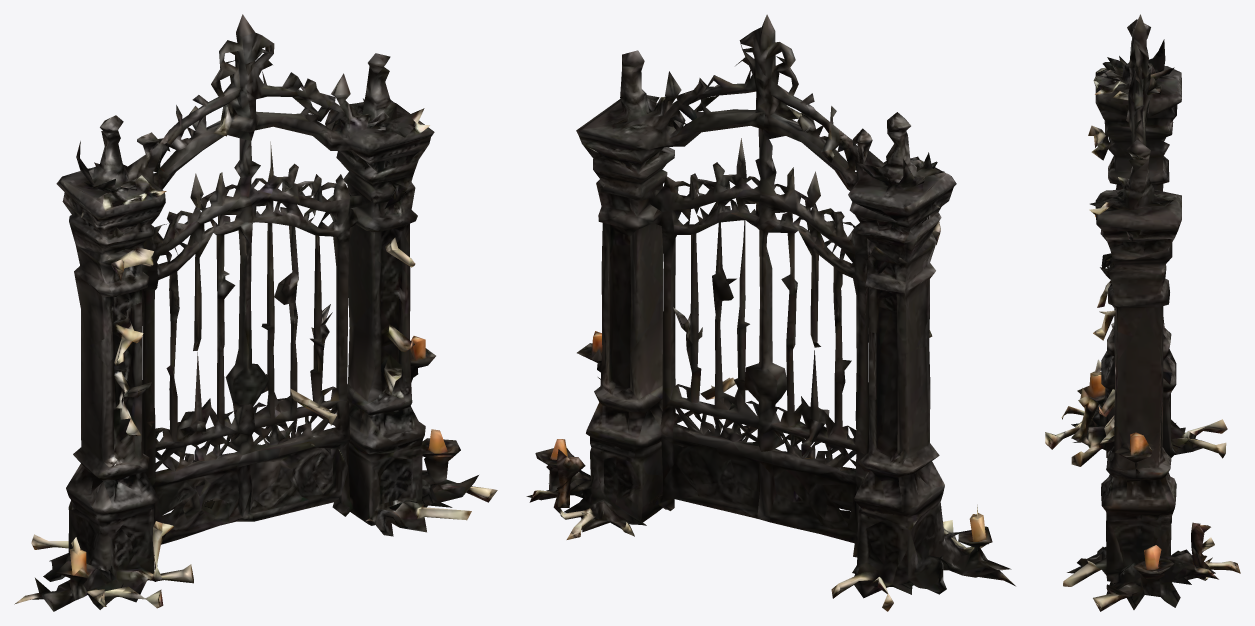
Rendered from iron_gate.glb.
3 views of the same model, side by side, from view 1: azimuth 30°, elevation 25°; view 2: azimuth 150°, elevation 25°; view 3: azimuth 270°, elevation 25° (orthographic). The views are drawn at different scales.
Visible parts, largest first — view 1: tripo_node_264b0efa-af6f-428f-b238-0553c415286b; view 2: tripo_node_264b0efa-af6f-428f-b238-0553c415286b; view 3: tripo_node_264b0efa-af6f-428f-b238-0553c415286b.
Part boxes in pixels (x1=…): tripo_node_264b0efa-af6f-428f-b238-0553c415286b: x1=14, y1=14, x2=497, y2=611; tripo_node_264b0efa-af6f-428f-b238-0553c415286b: x1=526, y1=14, x2=1015, y2=611; tripo_node_264b0efa-af6f-428f-b238-0553c415286b: x1=1045, y1=14, x2=1240, y2=611.
Bounding box in the file's own units: 0.9208 × 0.9803 × 0.3511.
Materials: 1 (1 with a texture image).
